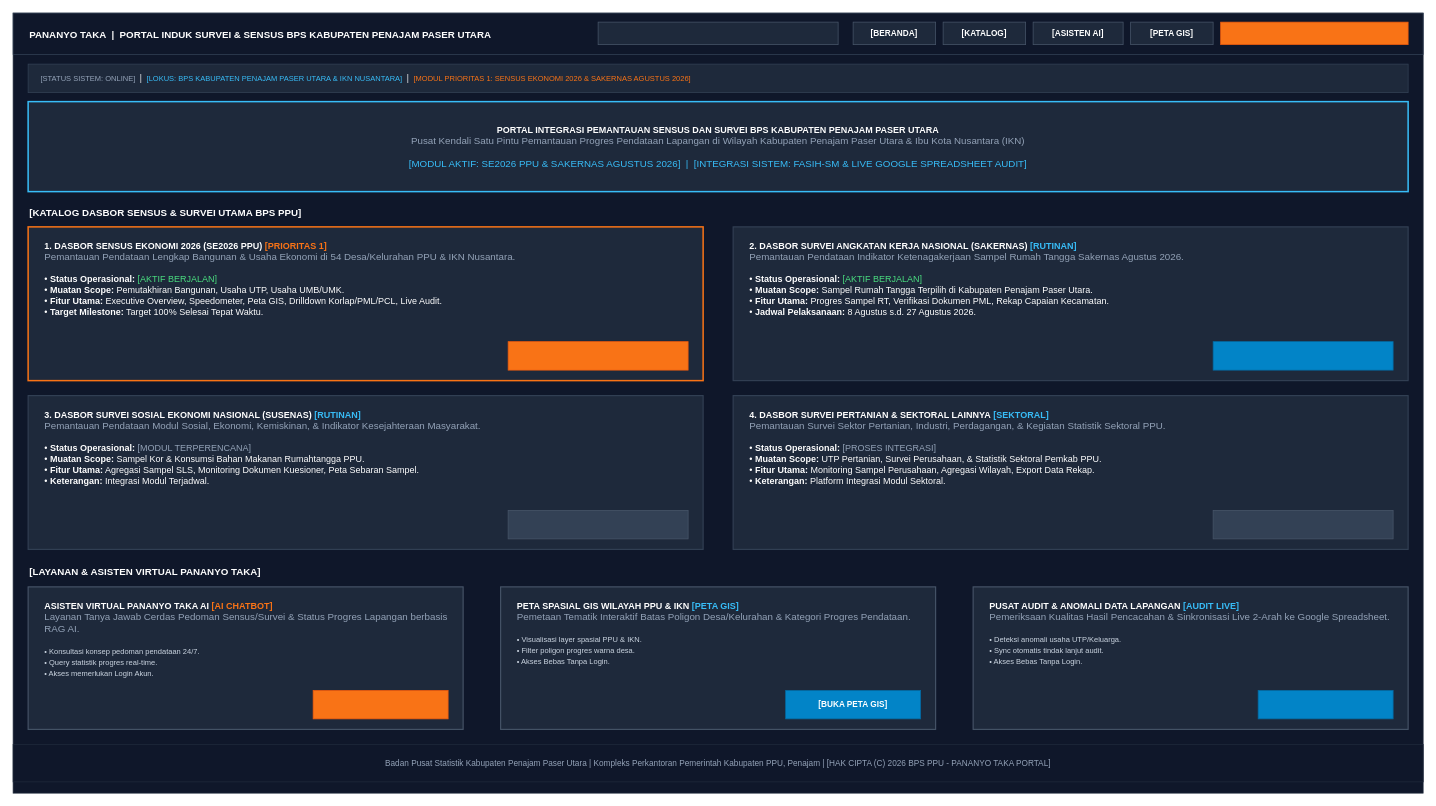
Image size: 1436x806. Some labels were removed from this diagram. The box of each missing label's shape, as (x1, y1, x2, y2) in pixels:
[BUKA AUDIT DATA]: (1257, 690, 1393, 719)
[BUKA DASBOR SAKERNAS]: (1212, 341, 1393, 370)
[BUKA DASBOR SE2026 PPU]: (507, 341, 688, 370)
[BUKA DASBOR SEKTORAL]: (1212, 510, 1393, 539)
[BUKA DASBOR SUSENAS]: (507, 510, 688, 539)
[Ctrl K] Cari dasbor sensus / survei...: (597, 21, 838, 45)
[LOGIN ADMIN]: (1220, 21, 1408, 45)
[MULAI CHAT AI]: (312, 690, 448, 719)
